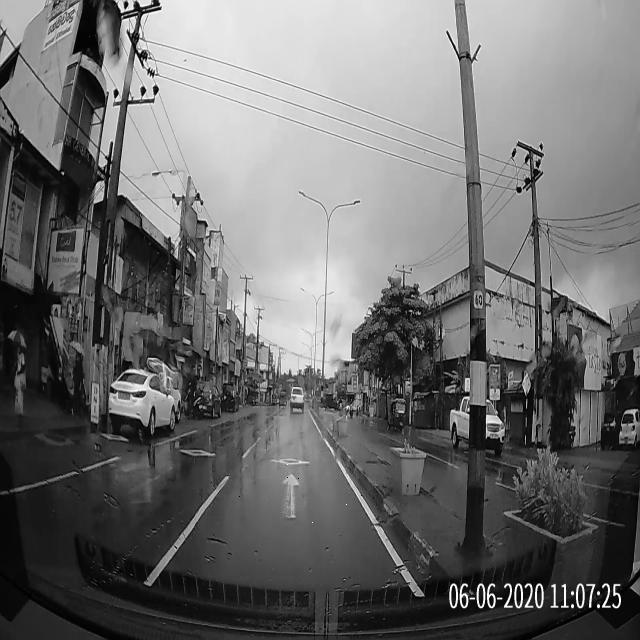diamond: (238, 448, 346, 474)
forward: (196, 474, 383, 532)
